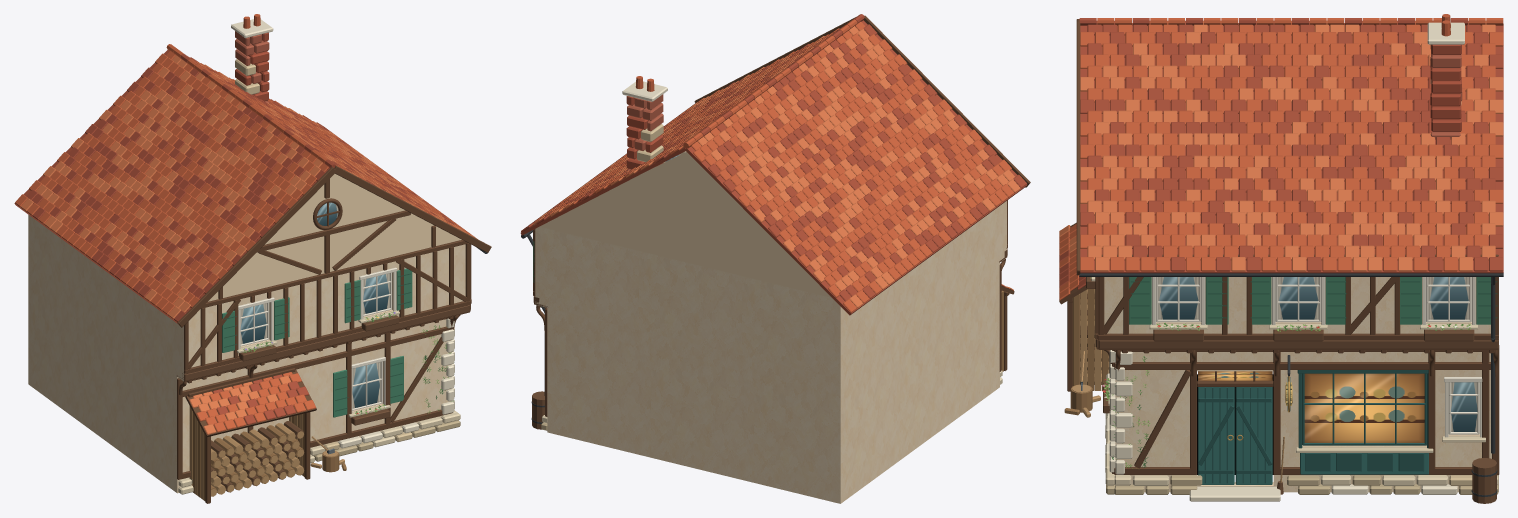
The picture shows the model from 3 angles, left to right: view 1: azimuth 30°, elevation 25°; view 2: azimuth 150°, elevation 25°; view 3: azimuth 270°, elevation 25°; orthographic projection. The views are drawn at different scales.
Visible parts, largest first — view 1: lane_plaster, lane_terracotta, lane_timber, lane_terracotta_dark, lane_terracotta_light, lane_wood_light, lane_wood_dark, lane_shutter, lane_window_pane, lane_wood, lane_white, lane_limestone_pale (+4 smaller); view 2: lane_plaster, lane_terracotta, lane_terracotta_dark, lane_terracotta_light, lane_timber, lane_brick; view 3: lane_terracotta, lane_terracotta_dark, lane_terracotta_light, lane_plaster, lane_timber, lane_window_shop, lane_wood_dark, lane_window_pane, lane_limestone_pale, lane_shutter, lane_teal_dark, lane_white (+10 smaller).
Part boxes in pixels (x1,y1,x2,y2): lane_plaster: (28, 174, 465, 493); lane_terracotta: (15, 14, 475, 432); lane_timber: (177, 165, 491, 503); lane_terracotta_dark: (14, 32, 457, 424); lane_terracotta_light: (21, 55, 477, 434); lane_wood_light: (189, 406, 344, 499); lane_wood_dark: (182, 304, 470, 492); lane_shutter: (222, 268, 412, 417); lane_window_pane: (240, 202, 389, 408); lane_wood: (192, 412, 346, 500); lane_white: (238, 267, 397, 412); lane_limestone_pale: (231, 19, 454, 448); lane_plaster: (535, 151, 1006, 503); lane_terracotta: (542, 19, 1014, 312); lane_terracotta_dark: (520, 14, 1026, 315); lane_terracotta_light: (532, 26, 1020, 307); lane_timber: (533, 15, 1030, 416); lane_brick: (627, 94, 663, 171); lane_terracotta: (1059, 14, 1503, 300); lane_terracotta_dark: (1059, 18, 1503, 289); lane_terracotta_light: (1059, 20, 1503, 271); lane_plaster: (1104, 277, 1498, 492); lane_timber: (1059, 19, 1499, 474); lane_window_shop: (1198, 371, 1424, 442); lane_wood_dark: (1080, 277, 1498, 503); lane_window_pane: (1158, 277, 1477, 431); lane_limestone_pale: (1105, 22, 1464, 501); lane_shutter: (1129, 277, 1490, 324); lane_teal_dark: (1287, 370, 1428, 471); lane_white: (1152, 277, 1482, 437).
Size of the model in its own units: 9.93 by 9.86 by 9.27.
35 materials, 3 textured.
